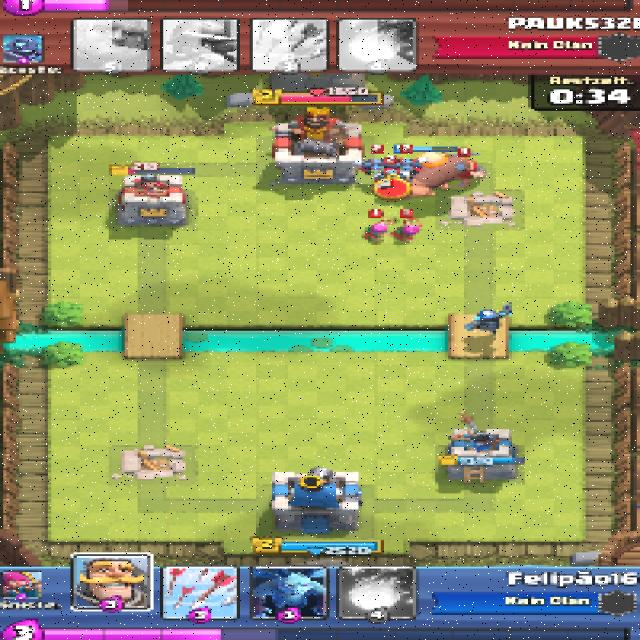Enemy-Archer: (393, 220, 421, 242), (362, 219, 391, 240)
Enemy-Minion: (375, 173, 406, 187), (359, 159, 387, 172), (394, 160, 418, 171)
Player-Giant: (403, 154, 470, 196)
Player-MiniPEKKA: (465, 303, 515, 333)
